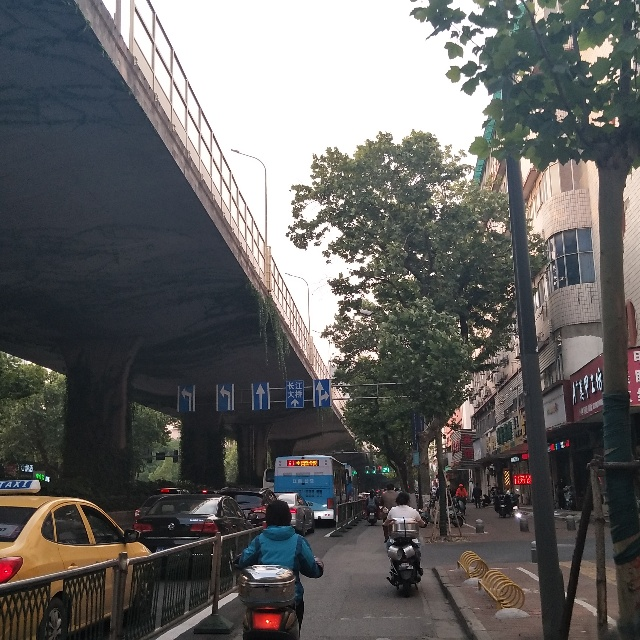left: (175, 381, 197, 412), (216, 379, 234, 411)
straight: (251, 379, 270, 414), (287, 394, 304, 410)
